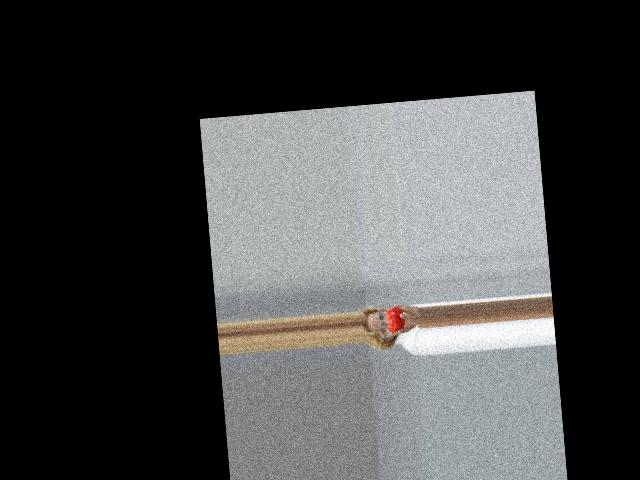tomato: (386, 307, 405, 333)
